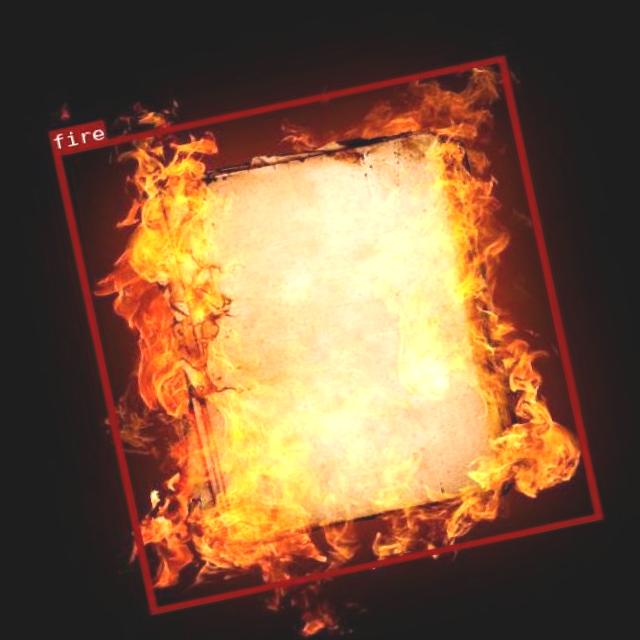fire: (51, 54, 600, 614)
